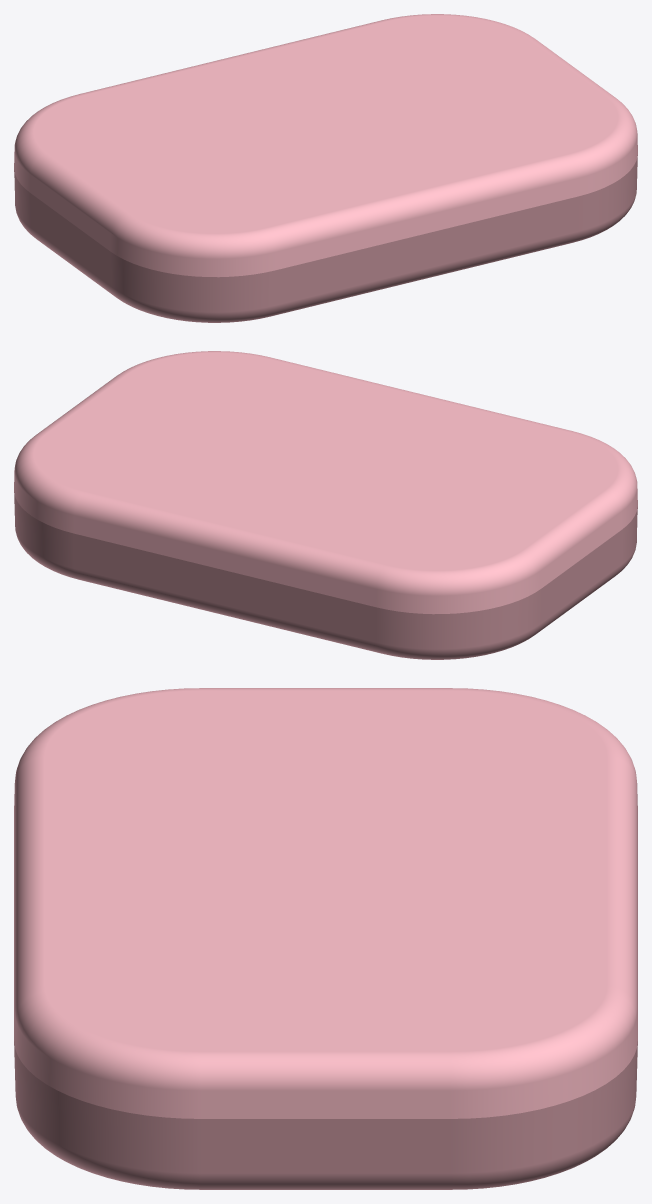
The model's file is v4_enclosure.glb.
3 views of the same model, one above another, from view 1: azimuth 30°, elevation 25°; view 2: azimuth 150°, elevation 25°; view 3: azimuth 270°, elevation 25° (orthographic). The views are drawn at different scales.
Parts seen in each view (by area): view 1: top_shell, bottom_shell; view 2: top_shell, bottom_shell; view 3: top_shell, bottom_shell.
Part boxes in pixels (x1,y1,x2,y2): top_shell: (14,14,637,277); bottom_shell: (14,155,637,322); top_shell: (14,351,637,614); bottom_shell: (14,492,637,659); top_shell: (14,688,637,1118); bottom_shell: (14,1041,637,1189).
Size of the model in its own units: 0.044 by 0.008 by 0.03.
